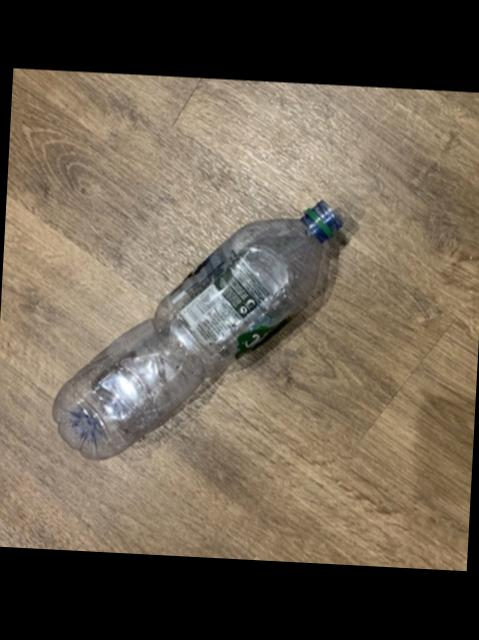plastic: (49, 200, 336, 458)
